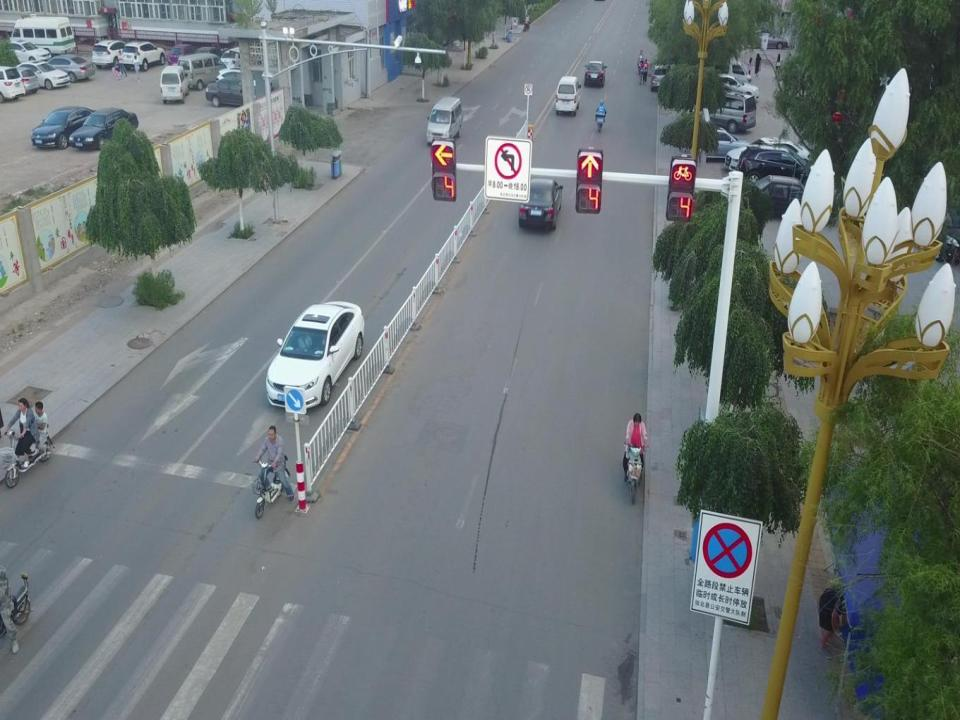car: (265, 300, 365, 408), (898, 178, 960, 262), (735, 144, 830, 190), (740, 174, 824, 220), (723, 136, 814, 176), (674, 124, 754, 163), (69, 107, 139, 151), (30, 106, 100, 150), (518, 178, 563, 230), (685, 81, 748, 113), (691, 74, 760, 102), (8, 61, 70, 90), (206, 76, 262, 108), (0, 40, 52, 71), (38, 54, 95, 82), (215, 69, 270, 98), (121, 40, 166, 72), (92, 40, 136, 68), (0, 65, 40, 95), (219, 46, 260, 75), (740, 27, 788, 50), (216, 66, 260, 91), (190, 46, 232, 72), (0, 65, 27, 104), (167, 43, 203, 70), (651, 61, 673, 92), (583, 60, 607, 88)
van: (686, 88, 757, 134), (8, 10, 77, 57), (697, 52, 752, 90), (176, 52, 228, 90), (426, 96, 463, 149), (159, 65, 190, 104), (555, 76, 581, 117)
